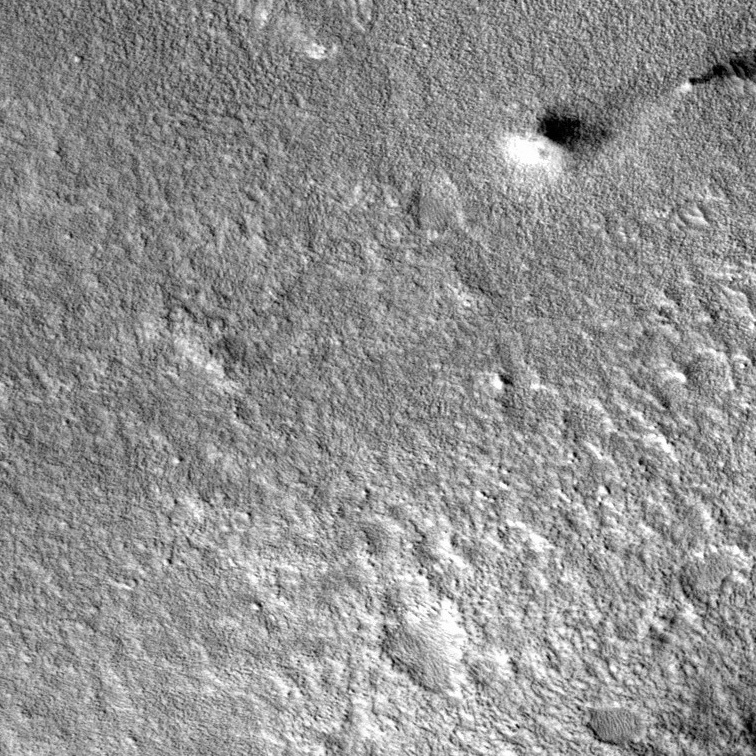dust_devil: (501, 110, 617, 183), (675, 48, 756, 95)
